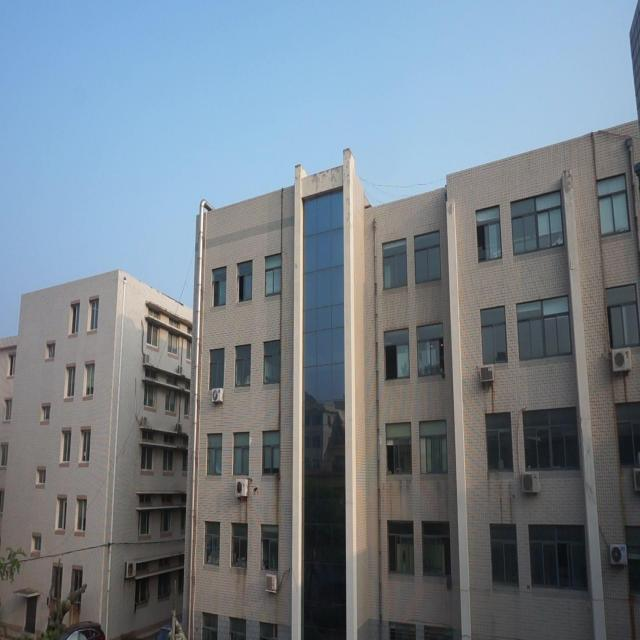UAV: (252, 487, 259, 496)
